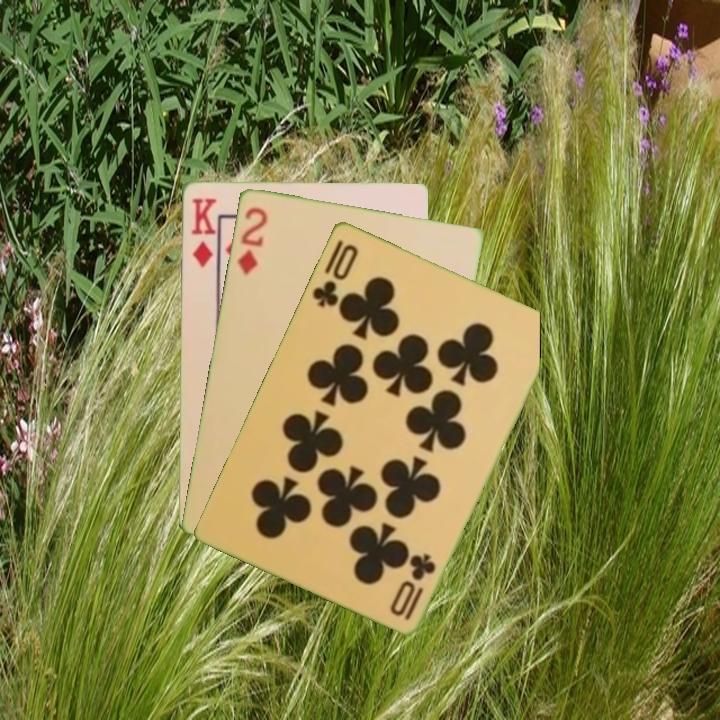10c: (387, 549, 439, 623), (308, 240, 361, 310)
2d: (233, 203, 270, 278)
Kd: (188, 194, 219, 270)
